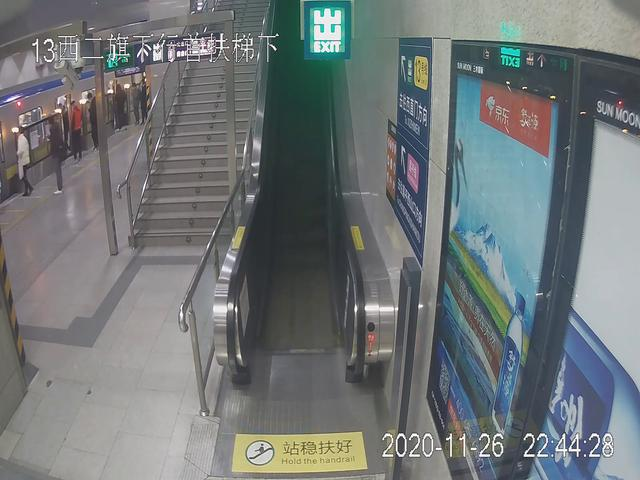person: (45, 114, 71, 194), (14, 126, 35, 198), (68, 100, 86, 160)
